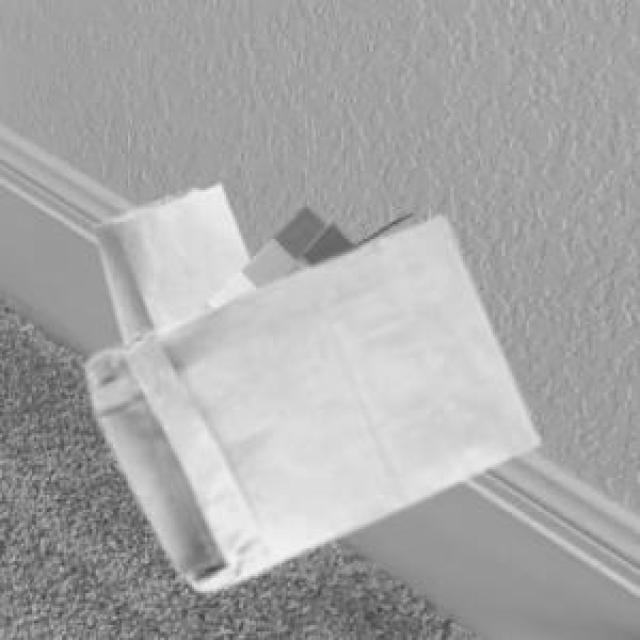paper: (83, 213, 533, 587), (90, 181, 245, 344), (194, 203, 354, 312)
